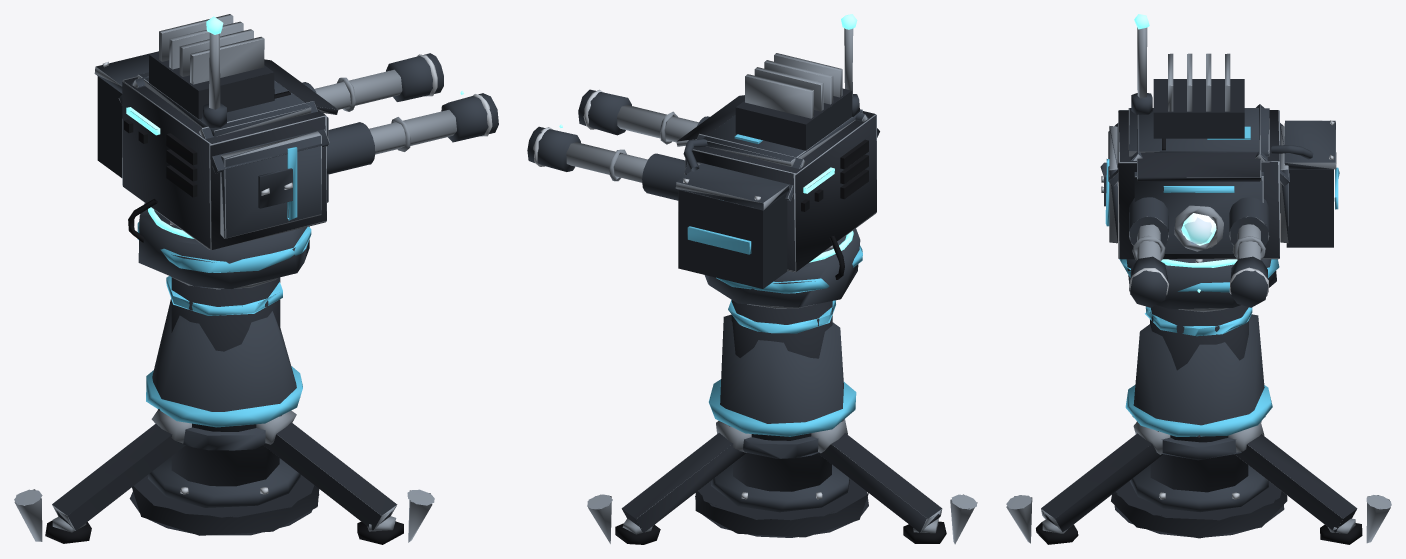
File: sentry_super.glb
3 renders of one model, left to right at view 1: azimuth 30°, elevation 25°; view 2: azimuth 150°, elevation 25°; view 3: azimuth 270°, elevation 25°, orthographic. The views are drawn at different scales.
Visible parts, largest first — view 1: head, mov_patas, faldon, columna, mov_cañon_l, anillo, plato, mov_cañon_r, tapa, banda_fal, banda, flange (+2 smaller); view 2: head, mov_patas, faldon, columna, mov_cañon_r, plato, anillo, mov_cañon_l, tapa, banda_fal, flange, banda_col (+2 smaller); view 3: head, mov_patas, faldon, columna, plato, mov_cañon_r, mov_cañon_l, tapa, anillo, banda_fal, flange, mov_antena (+2 smaller).
Boxes of the visible parts, x1,y1,x2,y2 form: head: (94,14,338,249); mov_patas: (14,410,434,544); faldon: (152,299,296,425); columna: (171,277,280,486); mov_cañon_l: (327,93,498,174); anillo: (138,203,309,288); plato: (129,474,319,535); mov_cañon_r: (302,53,443,111); tapa: (148,456,300,507); banda_fal: (146,366,302,427); banda: (137,221,311,272); flange: (168,427,265,450); head: (675,53,879,288); mov_patas: (587,419,977,544); faldon: (720,314,843,435); columna: (731,300,832,491); mov_cañon_r: (527,126,685,200); plato: (695,479,868,537); anillo: (704,228,860,307); mov_cañon_l: (578,89,709,144); tapa: (711,464,849,512); banda_fal: (708,379,856,436); flange: (739,436,819,458); banda_col: (728,300,835,333); head: (1100,53,1339,259); mov_patas: (1006,421,1391,544); faldon: (1132,314,1265,437); columna: (1150,305,1248,492); plato: (1111,481,1287,538); mov_cañon_r: (1229,197,1269,307); mov_cañon_l: (1129,197,1168,307); tapa: (1130,464,1268,512); anillo: (1126,259,1276,309); banda_fal: (1125,385,1272,436); flange: (1156,421,1261,460); mov_antena: (1131,14,1152,114).
Bounding box in the file's own units: 1.75 × 1.91 × 1.42.
